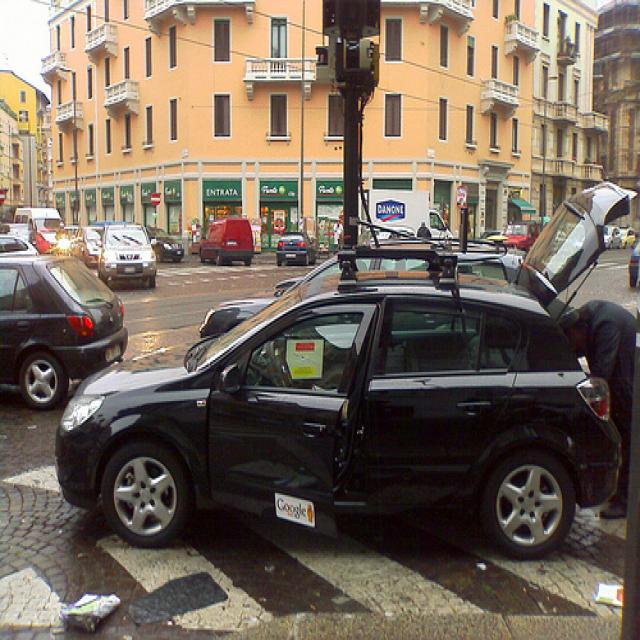Car: (48, 259, 620, 563), (0, 243, 132, 394), (362, 188, 459, 253), (196, 216, 262, 270), (99, 225, 159, 284), (273, 227, 326, 265)
